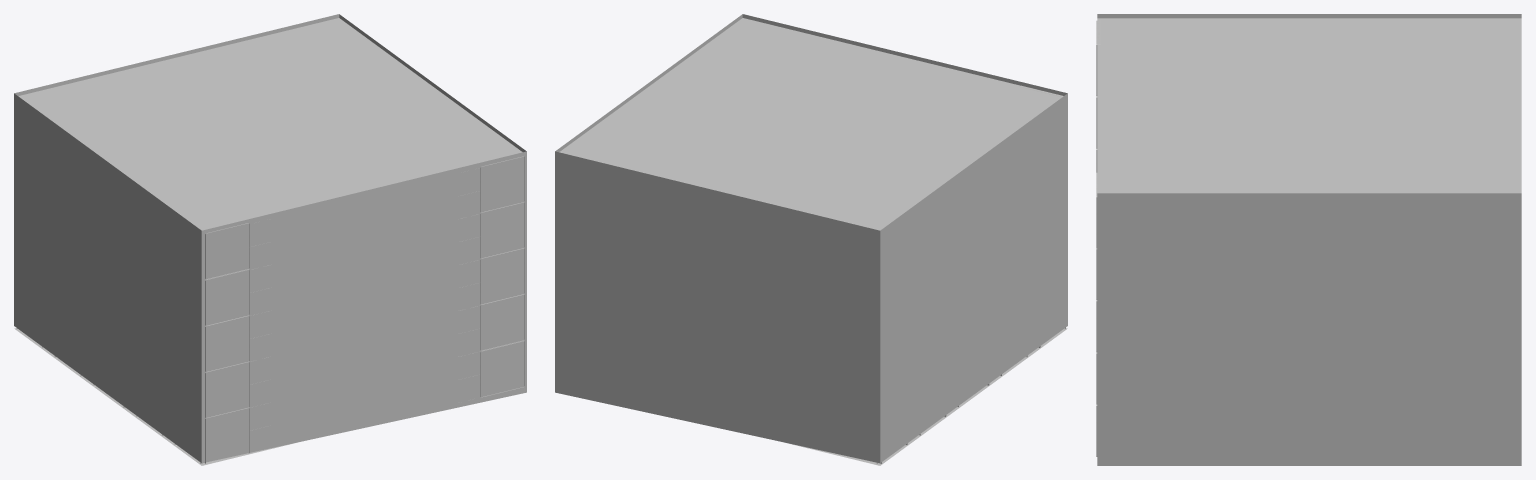
File: 0215_combine.fbx
The picture shows the model from 3 angles, left to right: view 1: azimuth 30°, elevation 25°; view 2: azimuth 150°, elevation 25°; view 3: azimuth 270°, elevation 25°; orthographic projection. The views are drawn at different scales.
Parts seen in each view (by area): view 1: wall; view 2: wall; view 3: wall.
Boxes of the visible parts, bbox=[...] form: wall: bbox=[14, 14, 526, 465]; wall: bbox=[555, 14, 1067, 465]; wall: bbox=[1096, 14, 1521, 465].
Bounding box in the file's own units: 5 × 3.55 × 5.01.
